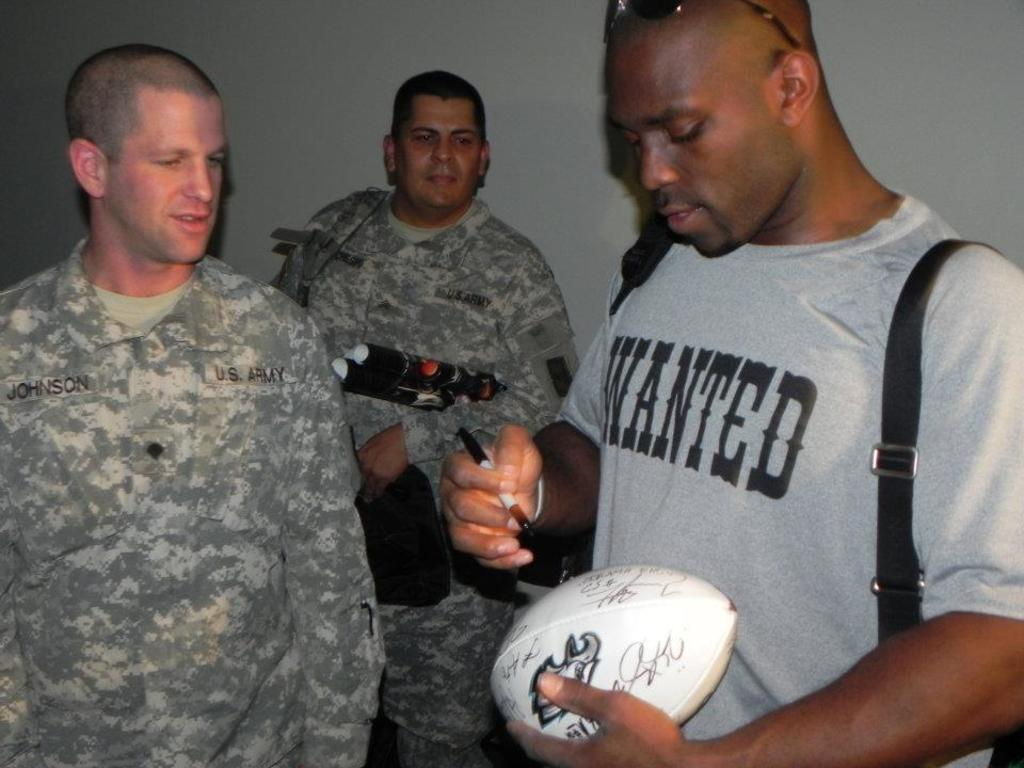Ball: (493, 563, 735, 739)
